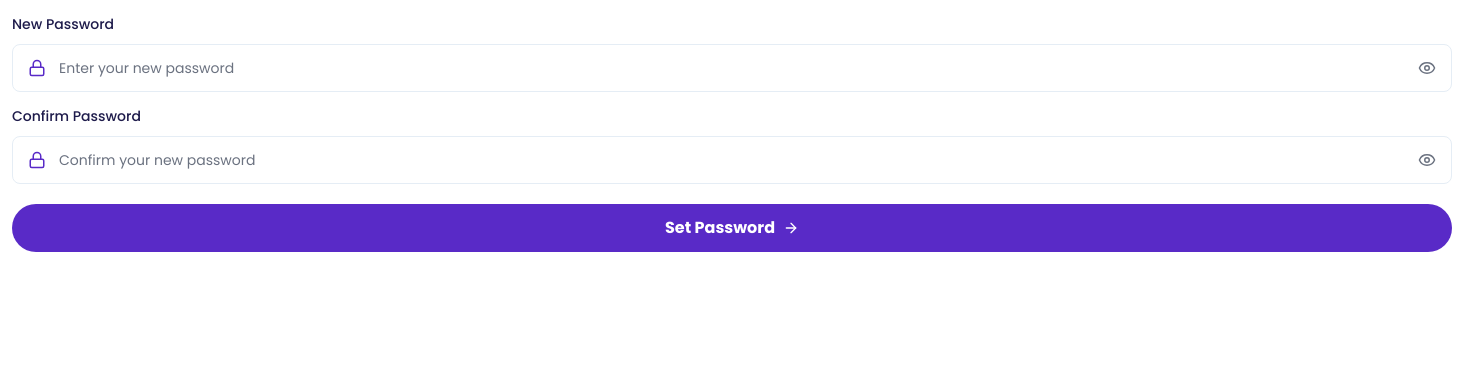
CounselorNewPasswordForm — password rules checklist › reopens on a failed submit, so the error naming the requirements can point at them
In the password field labelled "New Password": x=732, y=68 top-left (12, 44), bottom-right (1452, 92), type "weak"
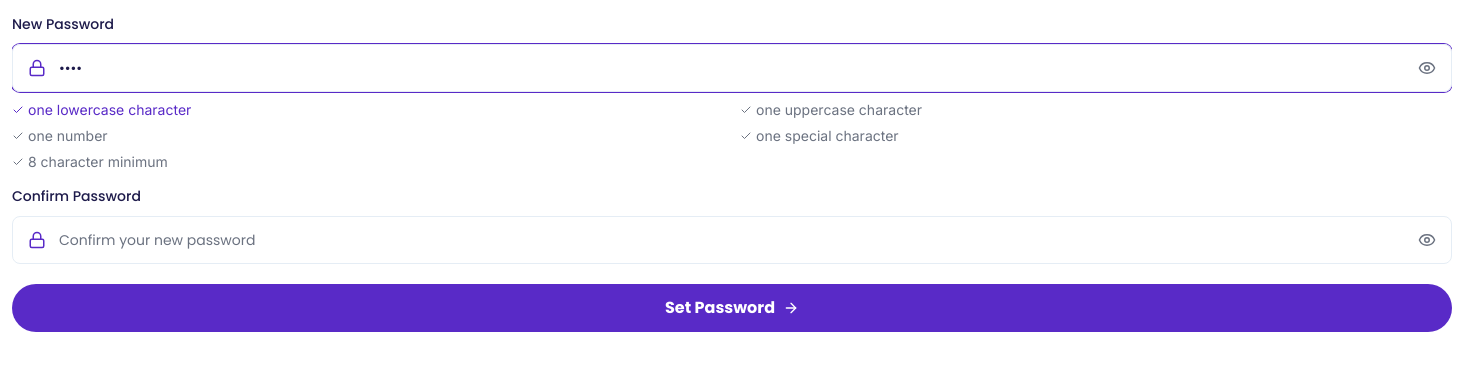
Click the password field labelled "Confirm Password": x=732, y=240 top-left (12, 216), bottom-right (1452, 264)
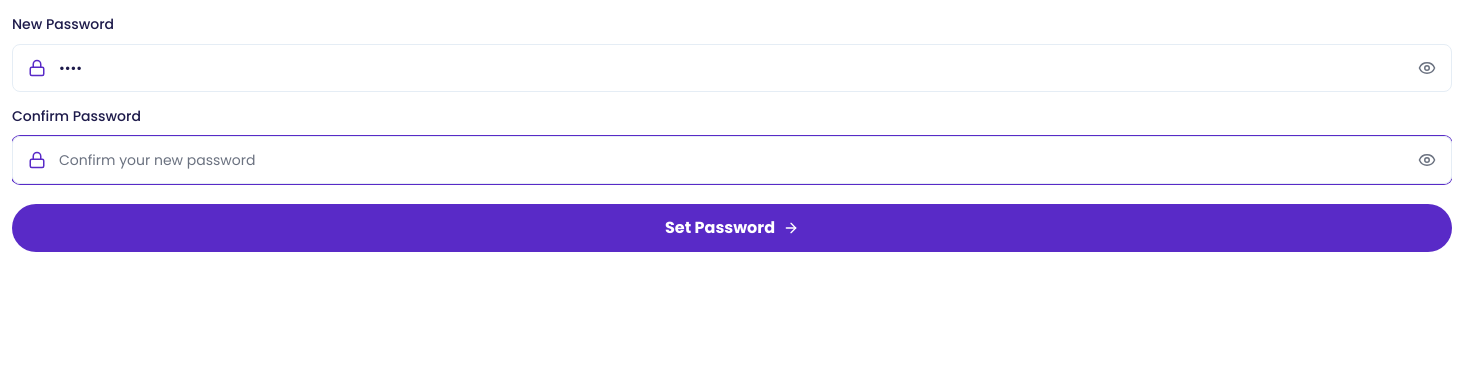
Now the text "8 character minimum" is gone
Click the button "Set Password": x=732, y=228 top-left (12, 204), bottom-right (1452, 252)
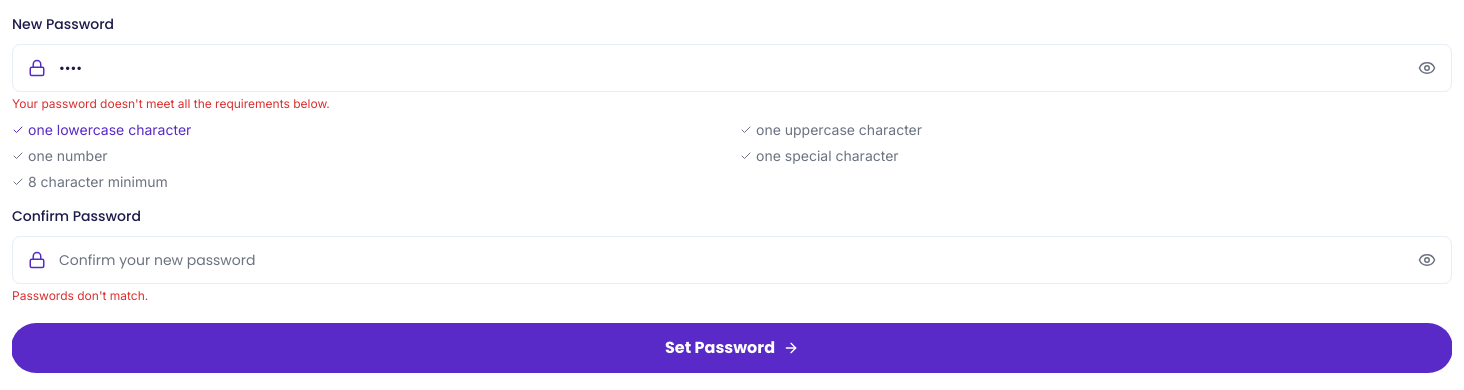
Now the text "Your password doesn't meet all the requirements below." is shown, box top-left (12, 96), bottom-right (330, 111)
Now the text "8 character minimum" is shown, box top-left (12, 173), bottom-right (168, 190)
